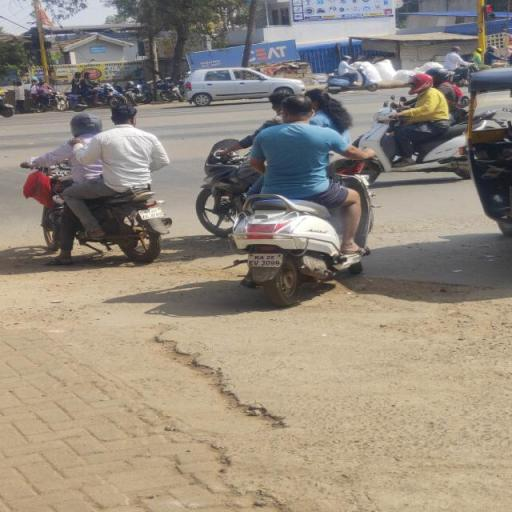bike: (227, 92, 385, 308)
numberplate: (247, 252, 283, 268)
withouthelmet: (282, 95, 313, 122)
